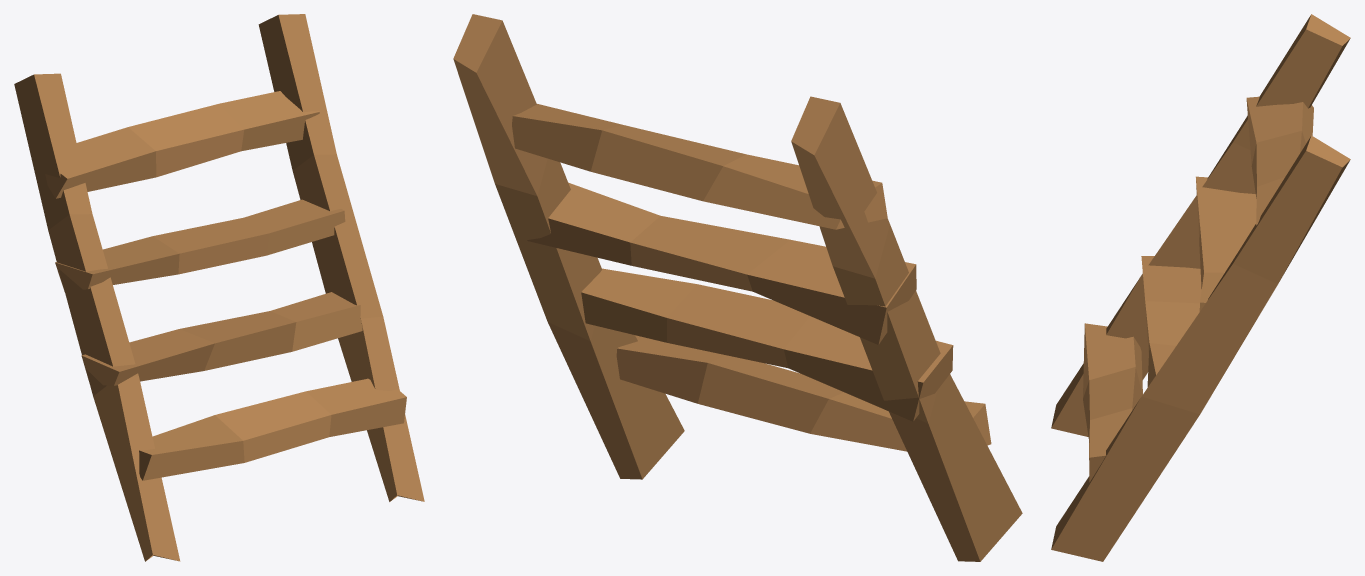
The model's file is Ladder.fbx.
The picture shows the model from 3 angles, left to right: view 1: azimuth 30°, elevation 25°; view 2: azimuth 150°, elevation 25°; view 3: azimuth 270°, elevation 25°; orthographic projection. The views are drawn at different scales.
Parts seen in each view (by area): view 1: Ladder; view 2: Ladder; view 3: Ladder.
Part boxes in pixels (x1,y1,x2,y2): Ladder: [14, 14, 424, 561]; Ladder: [453, 14, 1022, 561]; Ladder: [1051, 14, 1350, 561].
Bounding box in the file's own units: 282 × 304 × 434.
